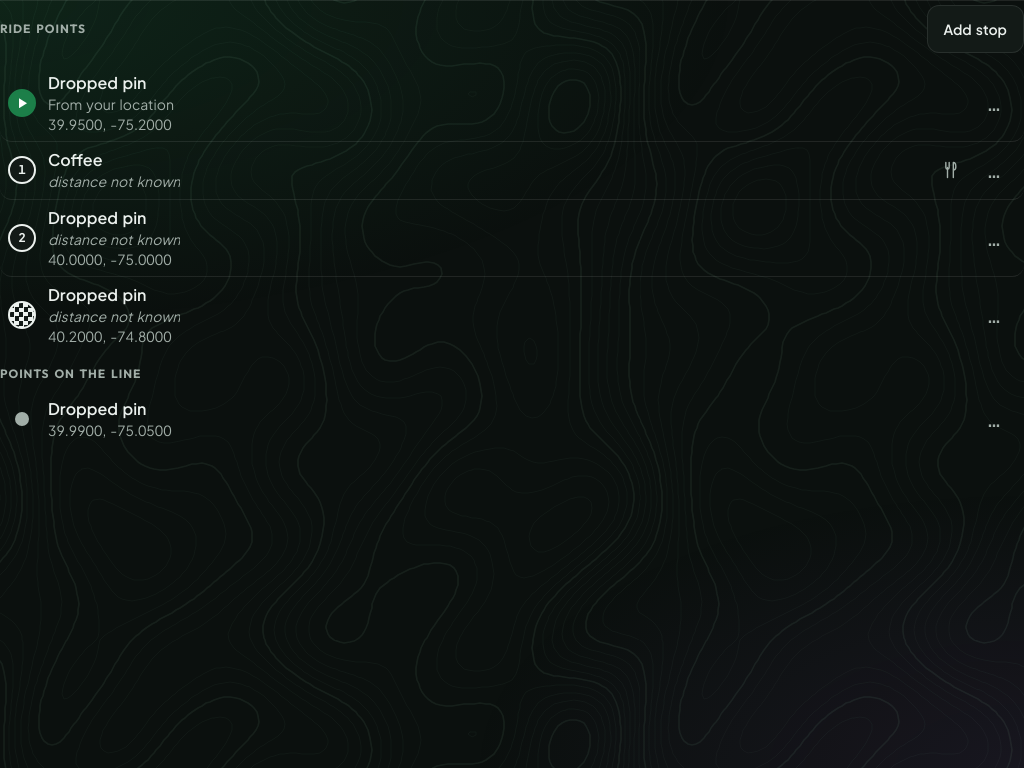
StopsPanel — one press, one intent (03 §27) › offers the endpoints no convert action, because they have none
Click the 1st button "…".
click(994, 103)  # box x1=972 y1=81 x2=1016 y2=125
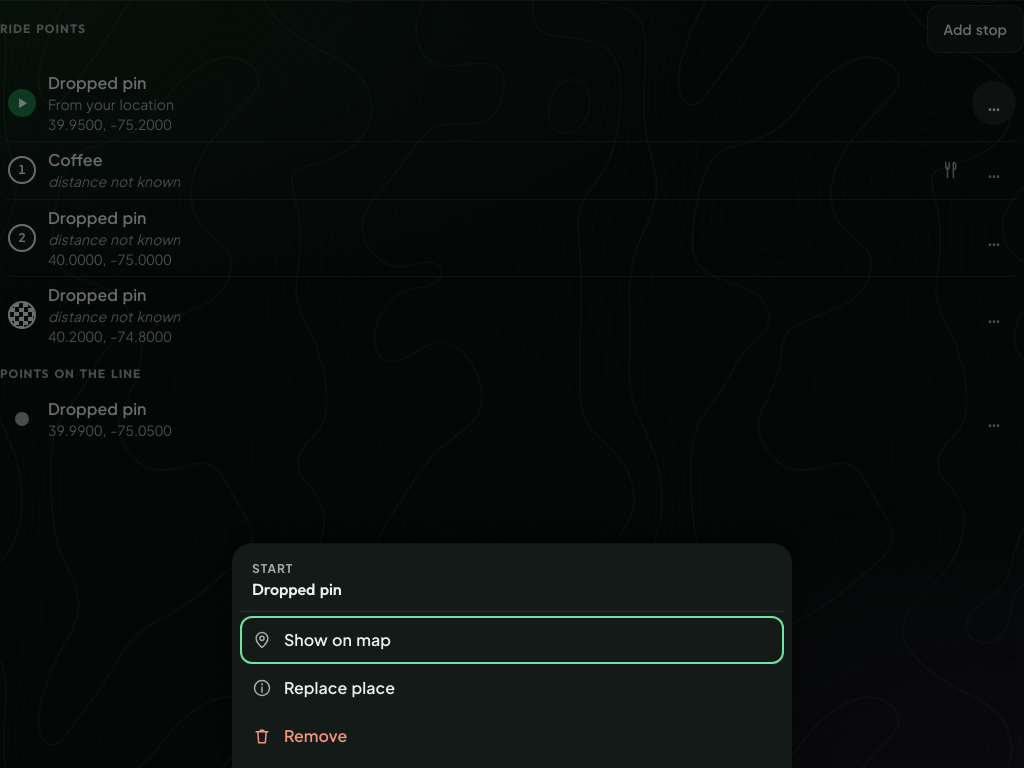
Result: the button with test id "remove-start" is shown at x1=240 y1=712 x2=784 y2=760
